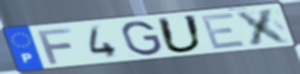4: (88, 25, 120, 58)
E: (198, 11, 248, 51)
F: (35, 27, 74, 66)
G: (120, 20, 165, 57)
U: (155, 14, 206, 55)
X: (233, 6, 294, 47)
